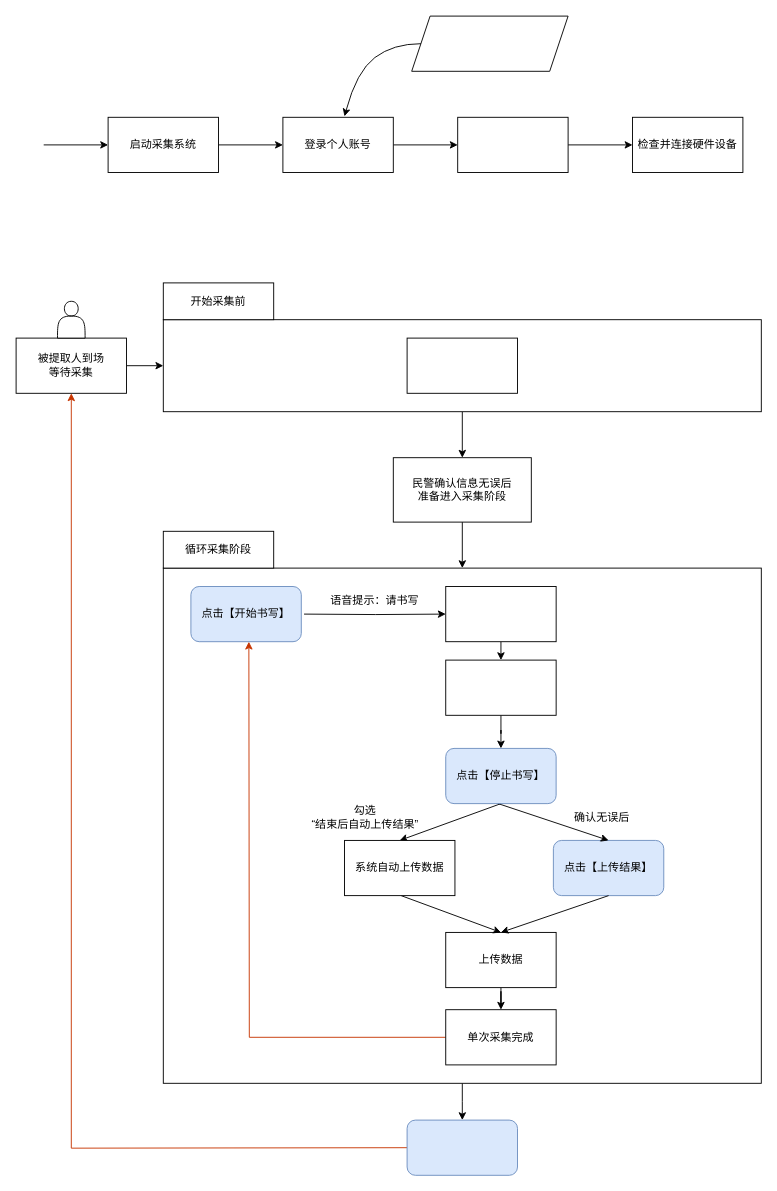
The diagram is 777 pixels wide and 1191 high, and some of its shapes have lost their labels. Each missing label, with the centre of its shape:
[手动/自动] 获取被提取人信息: the point at 462,365
民警引导被提取人书写签名: the point at 500,614
点击【结束采集】: the point at 462,1147
被提取人完成书写: the point at 500,687
账号由上级机关发放: the point at 489,43
进入采集页面: the point at 512,144
